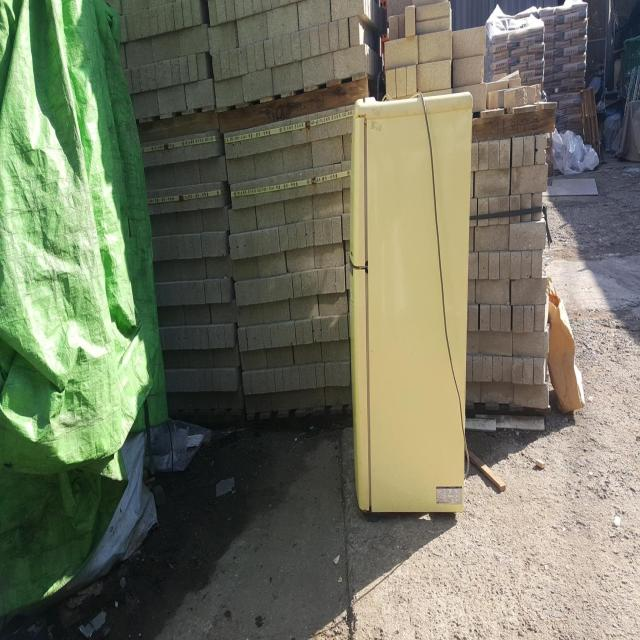refrigerator: (348, 88, 473, 516)
